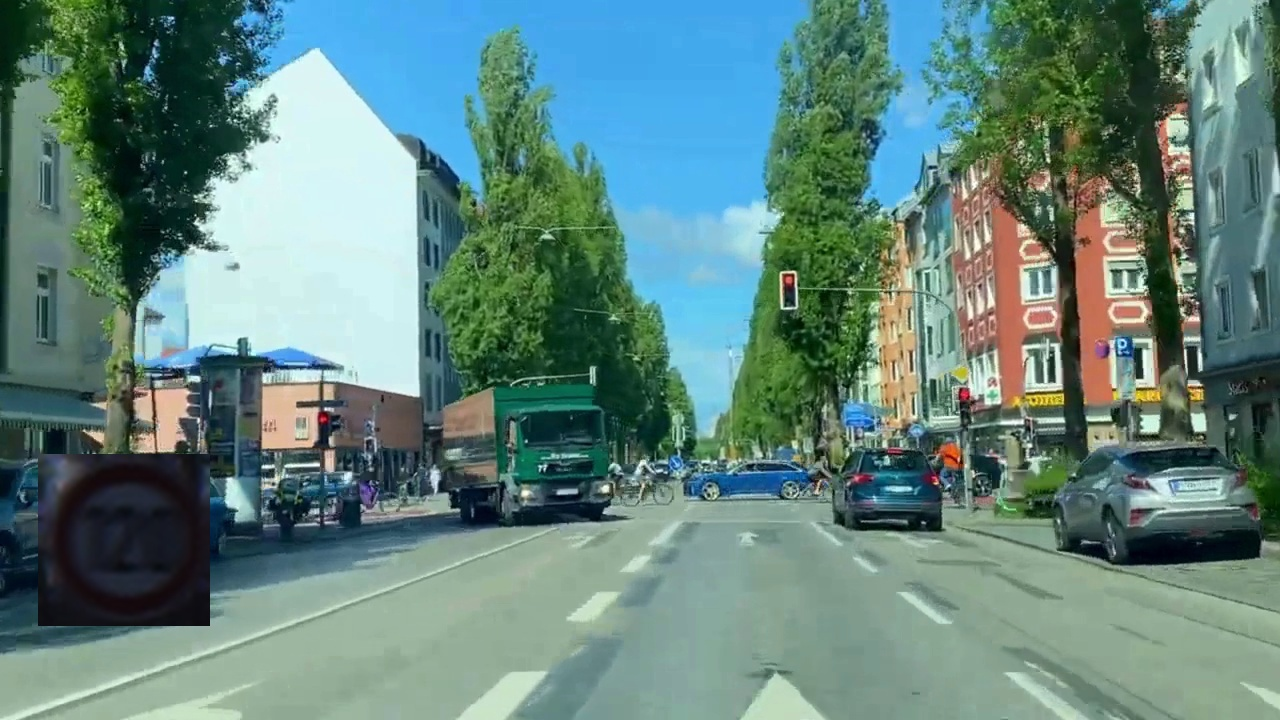Speed 120: (38, 454, 210, 626)
